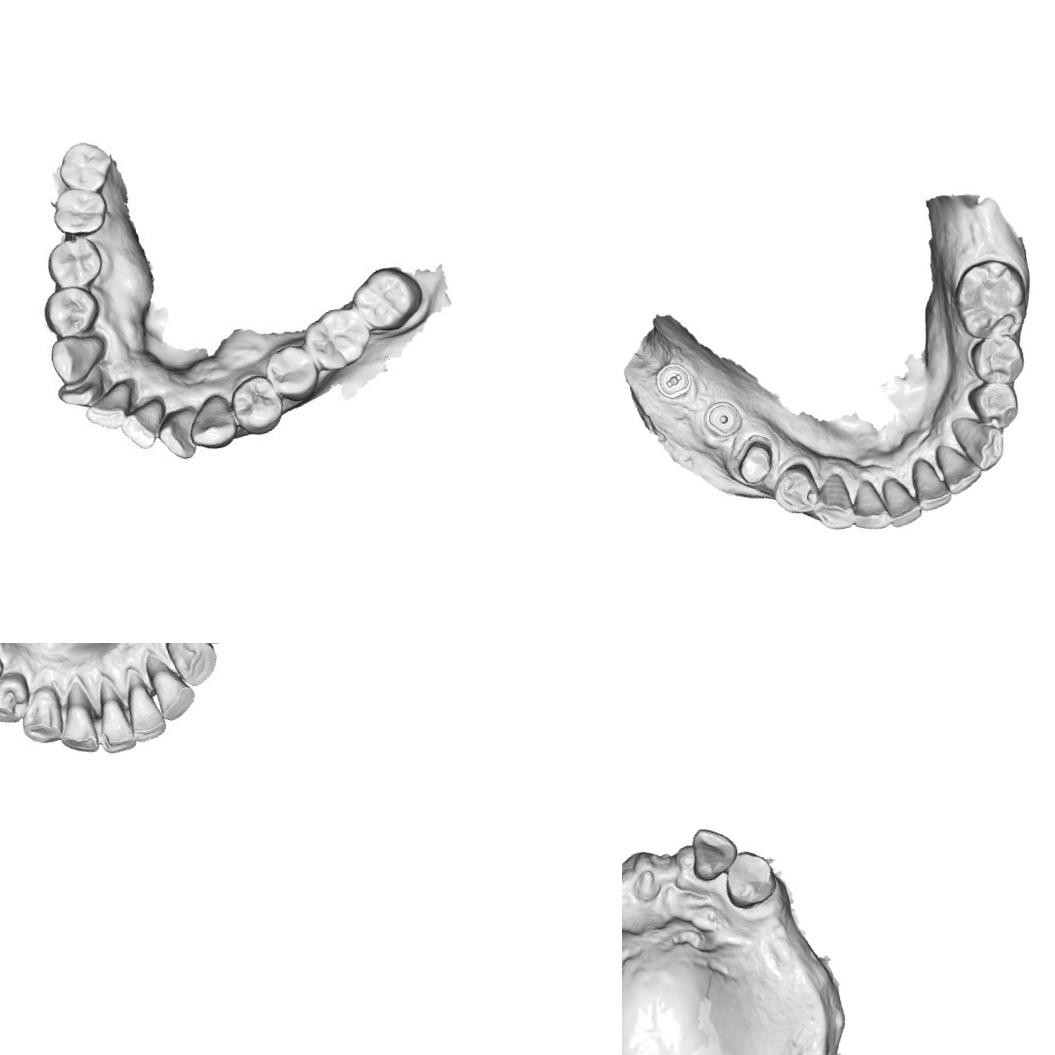canine: (717, 844, 780, 912), (949, 409, 1009, 475), (186, 387, 238, 450), (806, 470, 856, 534), (14, 686, 64, 749), (48, 329, 106, 381), (161, 643, 222, 690)
crown: (727, 430, 780, 488)
implant: (702, 397, 742, 438)
implant_minus: (651, 358, 695, 402)
incisor: (144, 650, 196, 723), (86, 686, 138, 758), (684, 822, 742, 883), (52, 688, 102, 758), (120, 675, 169, 742), (932, 436, 984, 497), (52, 365, 113, 411), (846, 475, 892, 534), (123, 398, 171, 454), (160, 406, 206, 464), (908, 454, 954, 512), (880, 471, 926, 529), (82, 380, 138, 426)
molar: (947, 252, 1034, 346), (344, 259, 429, 340), (294, 301, 376, 376), (46, 176, 116, 241), (52, 133, 117, 198)
premolar: (43, 227, 112, 294), (36, 276, 103, 343), (228, 370, 288, 438), (264, 342, 322, 406), (966, 330, 1028, 389), (966, 376, 1024, 435), (766, 460, 822, 520), (0, 674, 31, 727)
